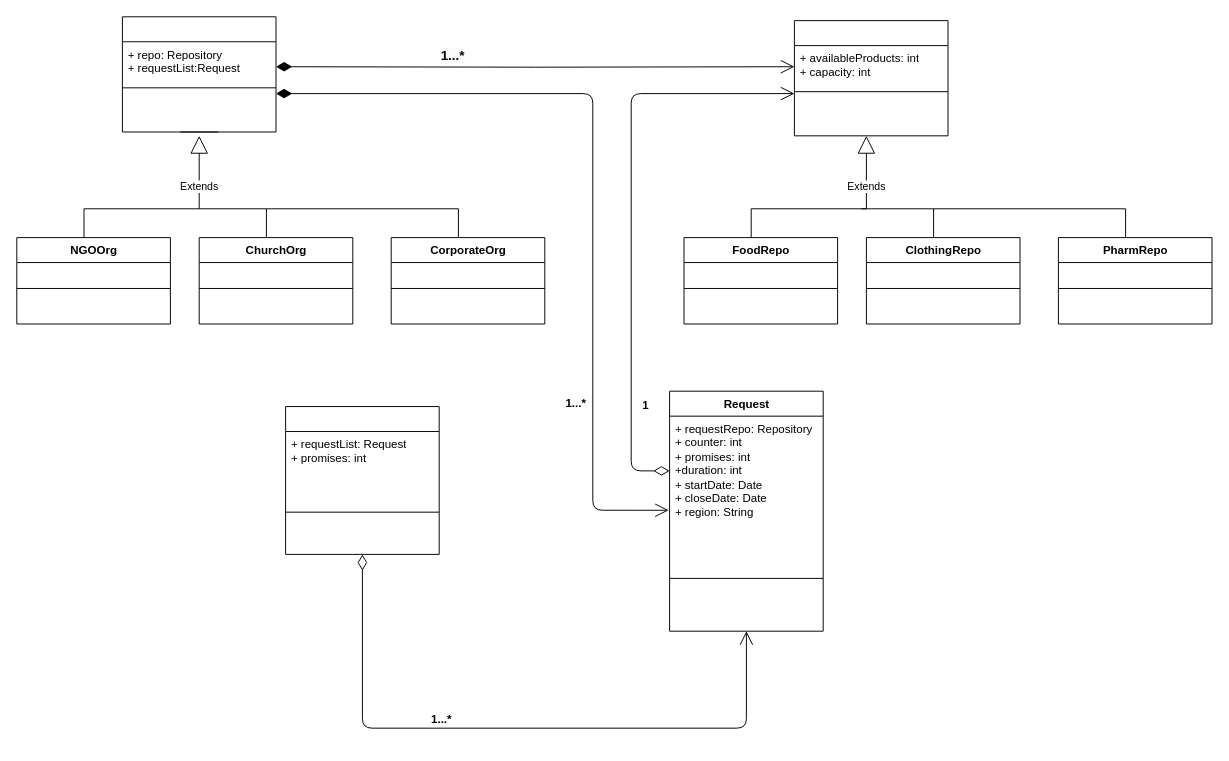
This 1229x761 diagram has some shape labels left out. The shapes that lost their labels are listed below. From the top down, each one's box as (x1, y1, x2, y2) in pixels, then its label:
(121, 16, 276, 132): Organization
(793, 20, 948, 136): Repository
(285, 406, 439, 554): Volunteer
